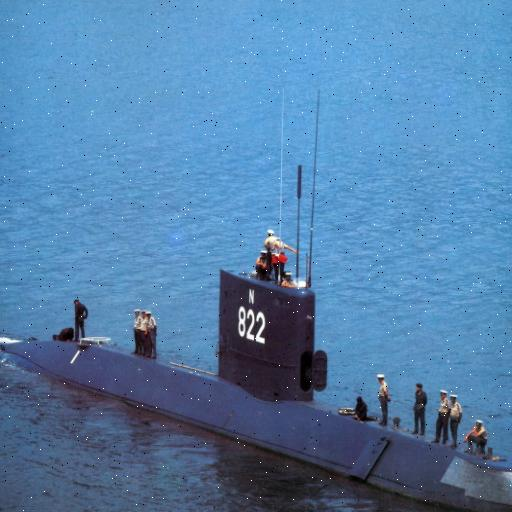submarine: (1, 240, 512, 512)
